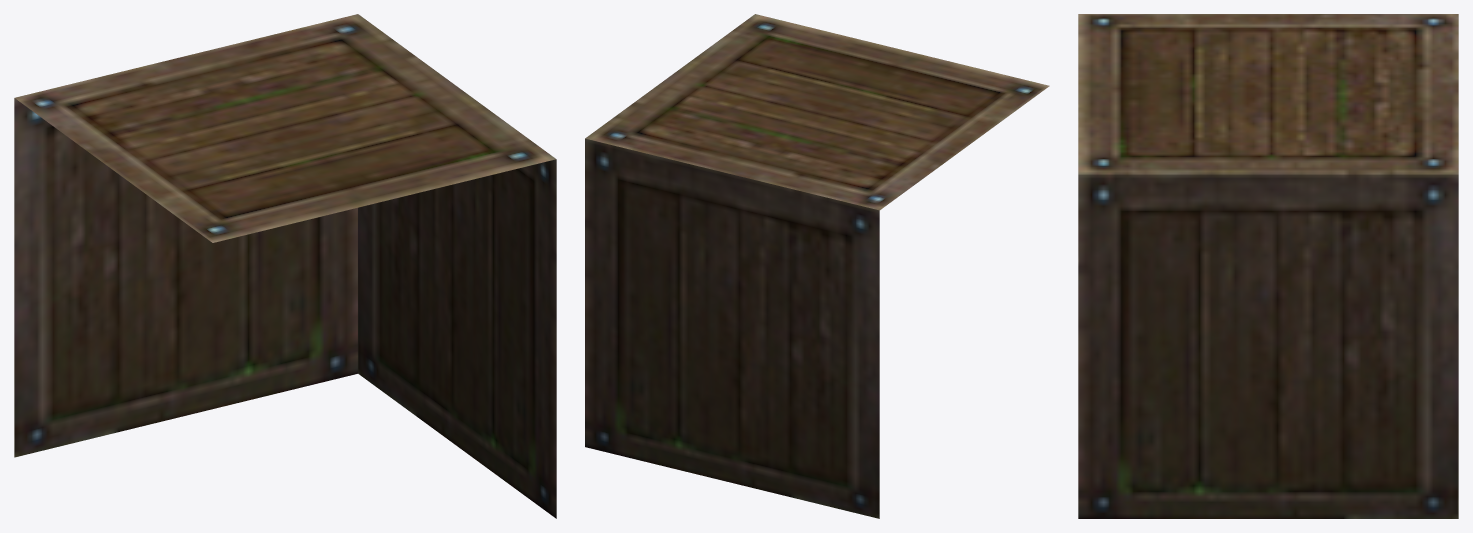
Rendered from zc_erhai_xiangzi02.FBX.
The picture shows the model from 3 angles, left to right: view 1: azimuth 30°, elevation 25°; view 2: azimuth 150°, elevation 25°; view 3: azimuth 270°, elevation 25°; orthographic projection. The views are drawn at different scales.
Parts seen in each view (by area): view 1: zc_erhai_xiangzi02; view 2: zc_erhai_xiangzi02; view 3: zc_erhai_xiangzi02.
Boxes of the visible parts, left/top/right/bottom form: zc_erhai_xiangzi02: left=14, top=14, right=556, bottom=518; zc_erhai_xiangzi02: left=585, top=14, right=1049, bottom=518; zc_erhai_xiangzi02: left=1078, top=14, right=1458, bottom=518.
Size of the model in its own units: 52.8 by 52.8 by 52.8.
1 material, 1 textured.
